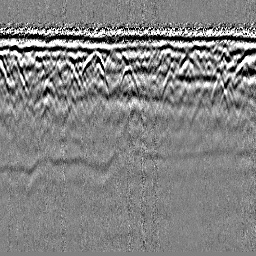cavity: (116, 64, 140, 102)
